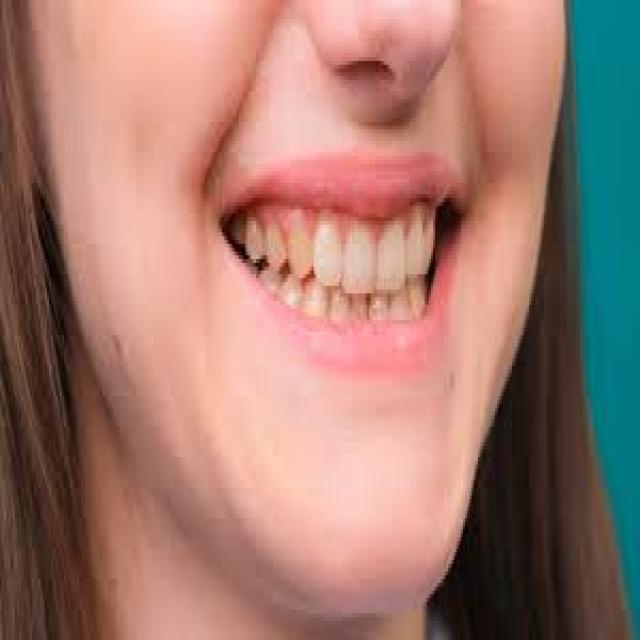tooth: (374, 289, 436, 324), (378, 228, 410, 294), (348, 217, 373, 297), (408, 217, 442, 274), (326, 286, 365, 335), (316, 221, 341, 286), (288, 229, 311, 278), (303, 278, 326, 320), (248, 221, 266, 267), (258, 263, 284, 293), (267, 228, 286, 266), (288, 274, 301, 312), (230, 217, 243, 252)
